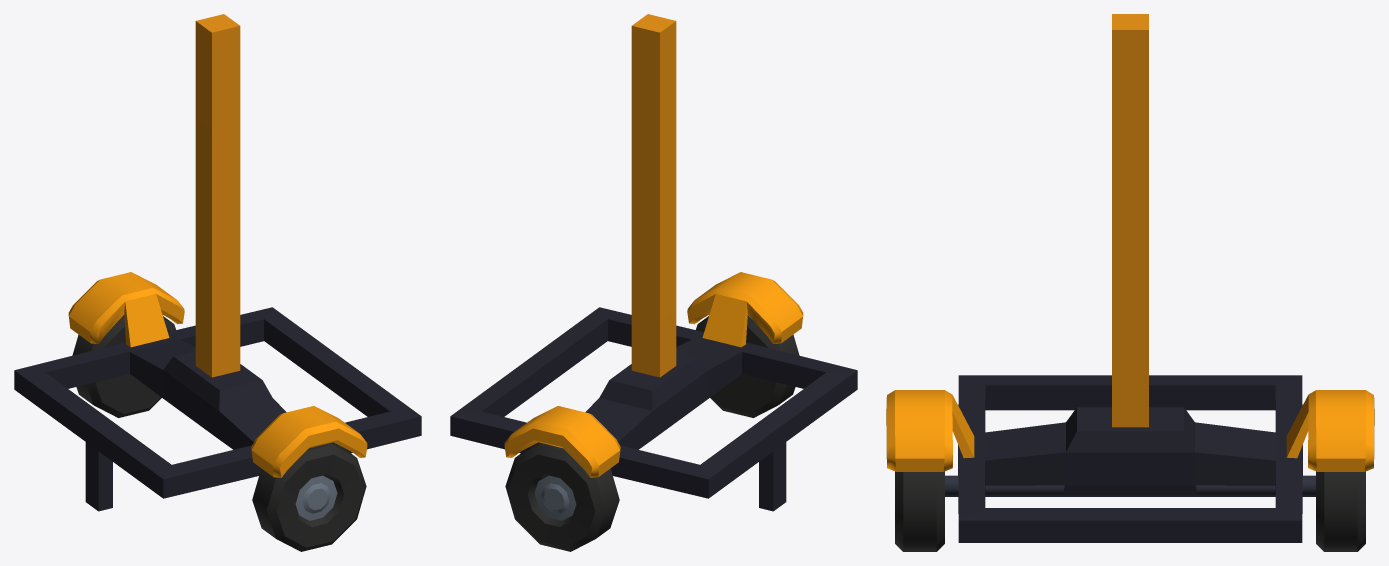
File: SignHolder_1_D.glb
3 views of the same model, side by side, from view 1: azimuth 30°, elevation 25°; view 2: azimuth 150°, elevation 25°; view 3: azimuth 270°, elevation 25° (orthographic). The views are drawn at different scales.
Parts seen in each view (by area): view 1: SignHolder_1_D; view 2: SignHolder_1_D; view 3: SignHolder_1_D.
Part boxes in pixels (bbox=[...]): SignHolder_1_D: bbox=[14, 14, 421, 551]; SignHolder_1_D: bbox=[450, 14, 857, 551]; SignHolder_1_D: bbox=[886, 14, 1374, 551].
Size of the model in its own units: 0.7663 by 1.28 by 1.09.
2 materials, 2 textured.
